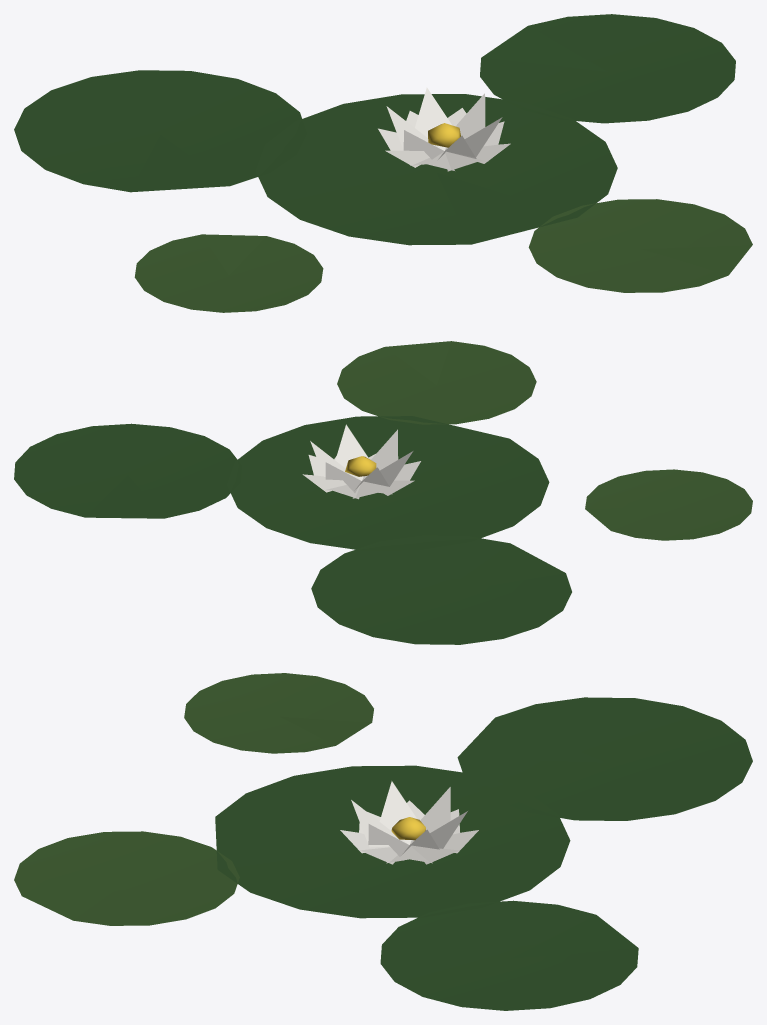
3 views of the same model, one above another, from view 1: azimuth 30°, elevation 25°; view 2: azimuth 150°, elevation 25°; view 3: azimuth 270°, elevation 25° (orthographic). The views are drawn at different scales.
Visible parts, largest first — view 1: shore-lily-white; view 2: shore-lily-white; view 3: shore-lily-white.
Boxes of the visible parts, x1,y1,x2,y2 form: shore-lily-white: [14, 14, 752, 312]; shore-lily-white: [14, 341, 752, 644]; shore-lily-white: [14, 673, 752, 1010].
Bounding box in the file's own units: 1.84 × 0.125 × 1.7.
